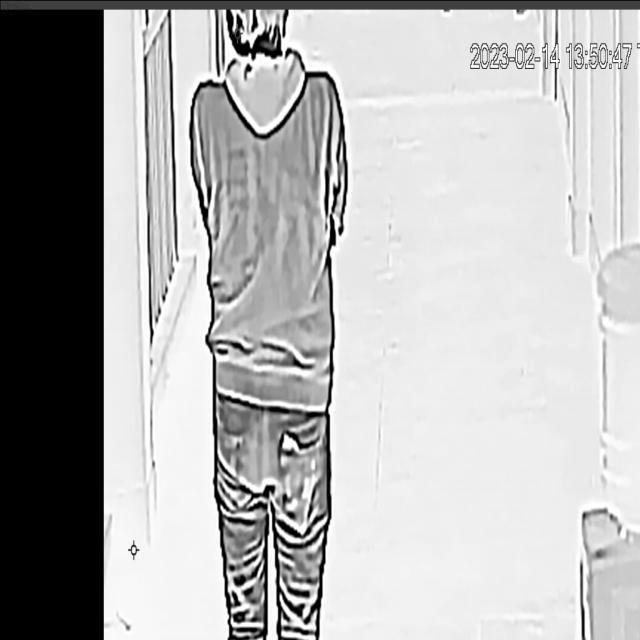Weapon: (260, 421, 335, 550)
